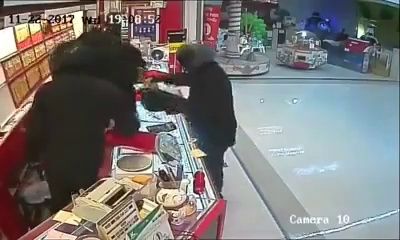helmet: (174, 33, 222, 70)
